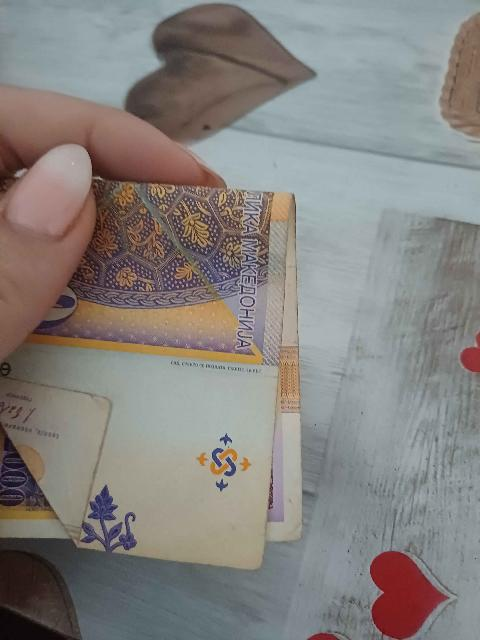note: (0, 179, 308, 578)
